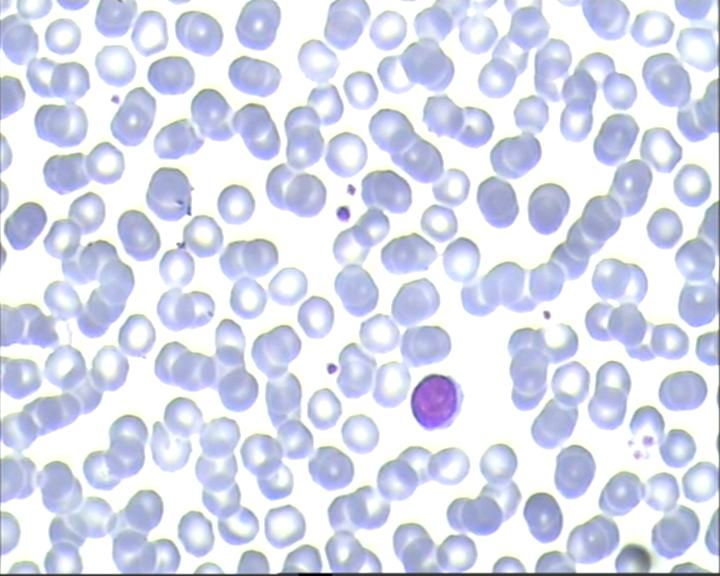lymp: (406, 366, 468, 430)
